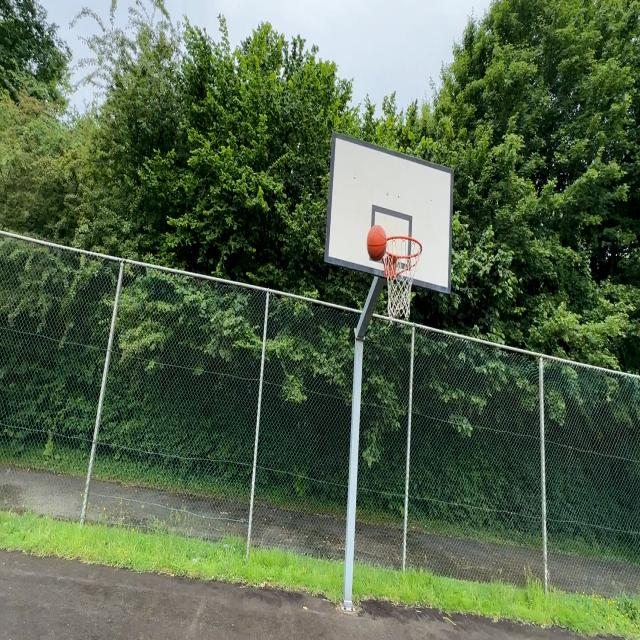rebound_hit: (368, 224, 388, 260)
